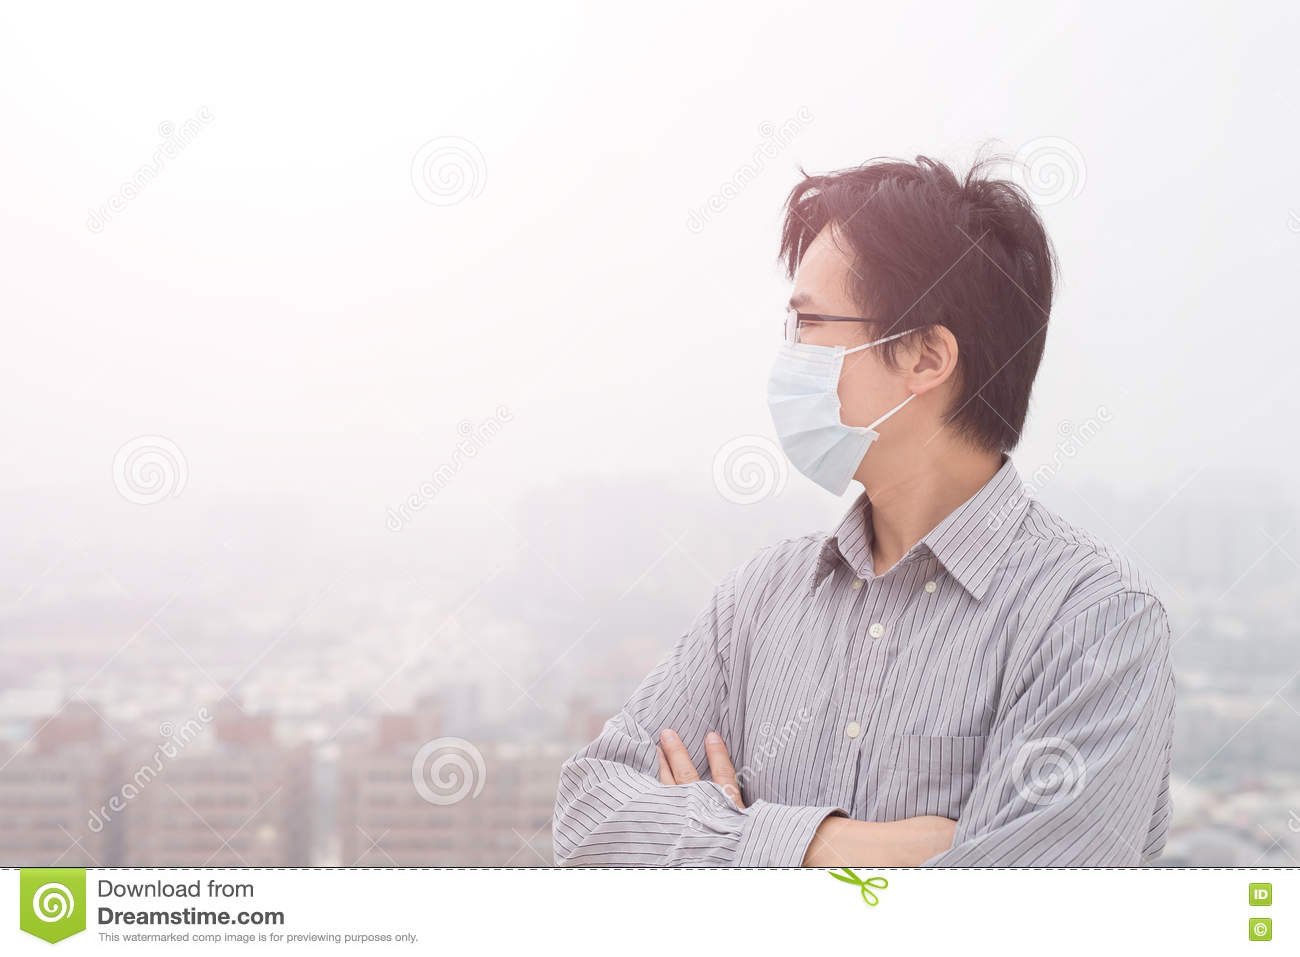mask: (769, 344, 888, 496)
